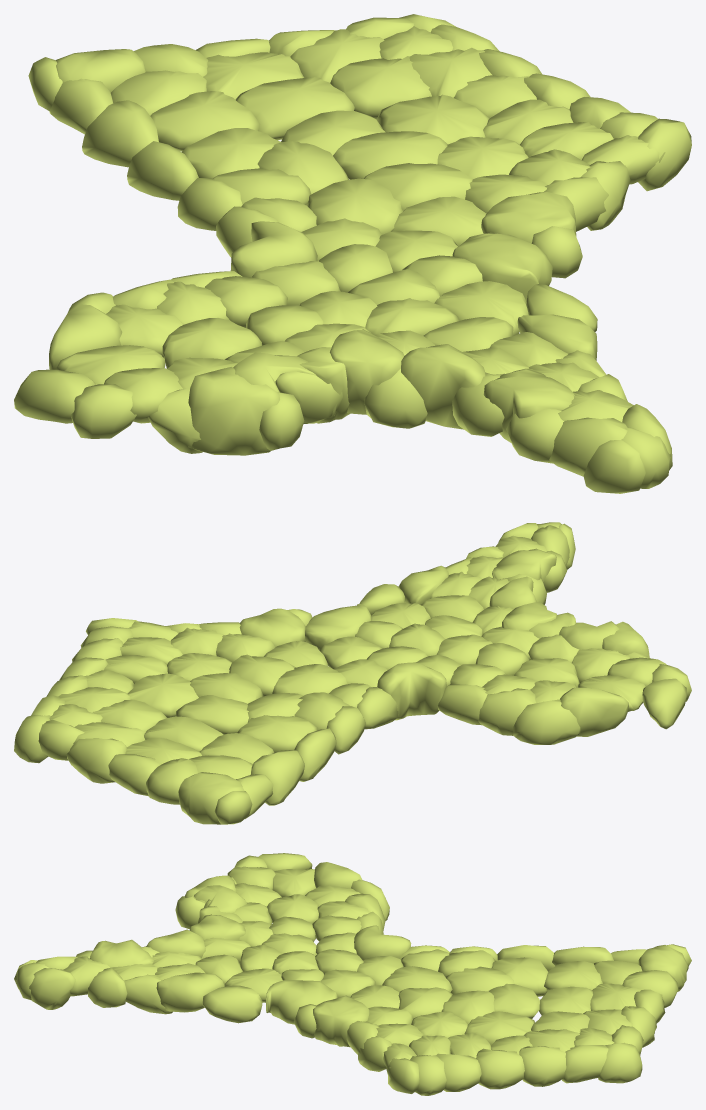
File: Islands2.003_fog.fbx
3 views of the same model, one above another, from view 1: azimuth 30°, elevation 25°; view 2: azimuth 150°, elevation 25°; view 3: azimuth 270°, elevation 25° (orthographic). The views are drawn at different scales.
Visible parts, largest first — view 1: Island2.003_fog_cell.012, Island2.003_fog_cell.062, Island2.003_fog_cell.029, Island2.003_fog_cell.048, Island2.003_fog_cell.041, Island2.003_fog_cell.007, Island2.003_fog_cell.097, Island2.003_fog_cell.033, Island2.003_fog_cell.009, Island2.003_fog_cell.044, Island2.003_fog_cell.022, Island2.003_fog_cell.085 (+83 smaller); view 2: Island2.003_fog_cell.026, Island2.003_fog_cell.028, Island2.003_fog_cell.059, Island2.003_fog_cell.092, Island2.003_fog_cell.097, Island2.003_fog_cell.072, Island2.003_fog_cell.084, Island2.003_fog_cell.041, Island2.003_fog_cell.015, Island2.003_fog_cell.044, Island2.003_fog_cell.071, Island2.003_fog_cell.085 (+73 smaller); view 3: Island2.003_fog_cell.041, Island2.003_fog_cell.085, Island2.003_fog_cell.011, Island2.003_fog_cell.004, Island2.003_fog_cell.055, Island2.003_fog_cell.057, Island2.003_fog_cell.075, Island2.003_fog_cell.097, Island2.003_fog_cell.043, Island2.003_fog_cell.039, Island2.003_fog_cell.026, Island2.003_fog_cell.084 (+74 smaller).
Boxes of the visible parts, box(x1,y1,x2,y2) form: Island2.003_fog_cell.012: box(188, 367, 279, 455); Island2.003_fog_cell.062: box(235, 77, 354, 140); Island2.003_fog_cell.029: box(401, 344, 485, 429); Island2.003_fog_cell.048: box(150, 91, 260, 151); Island2.003_fog_cell.041: box(452, 232, 552, 300); Island2.003_fog_cell.007: box(330, 56, 431, 119); Island2.003_fog_cell.097: box(376, 94, 489, 144); Island2.003_fog_cell.033: box(333, 131, 447, 179); Island2.003_fog_cell.009: box(306, 178, 403, 234); Island2.003_fog_cell.044: box(82, 100, 158, 167); Island2.003_fog_cell.022: box(330, 329, 404, 414); Island2.003_fog_cell.085: box(481, 192, 576, 243); Island2.003_fog_cell.026: box(377, 662, 446, 720); Island2.003_fog_cell.028: box(560, 687, 628, 736); Island2.003_fog_cell.059: box(513, 699, 580, 744); Island2.003_fog_cell.092: box(178, 772, 244, 824); Island2.003_fog_cell.097: box(127, 673, 198, 717); Island2.003_fog_cell.072: box(176, 695, 248, 734); Island2.003_fog_cell.084: box(237, 715, 317, 752); Island2.003_fog_cell.041: box(305, 604, 371, 649); Island2.003_fog_cell.015: box(66, 738, 127, 783); Island2.003_fog_cell.044: box(250, 750, 304, 805); Island2.003_fog_cell.071: box(478, 688, 535, 735); Island2.003_fog_cell.085: box(239, 608, 305, 647); Island2.003_fog_cell.041: box(265, 980, 337, 1024); Island2.003_fog_cell.085: box(313, 995, 369, 1047); Island2.003_fog_cell.011: box(156, 972, 224, 1012); Island2.003_fog_cell.004: box(202, 985, 262, 1023); Island2.003_fog_cell.055: box(476, 1048, 524, 1089); Island2.003_fog_cell.057: box(519, 1046, 566, 1086); Island2.003_fog_cell.075: box(29, 968, 75, 1009); Island2.003_fog_cell.097: box(464, 1011, 534, 1045); Island2.003_fog_cell.043: box(598, 1042, 642, 1083); Island2.003_fog_cell.039: box(562, 1045, 608, 1083); Island2.003_fog_cell.026: box(354, 925, 411, 960); Island2.003_fog_cell.084: box(492, 957, 548, 996).
Bounding box in the file's own units: 120 × 10.77 × 151.
